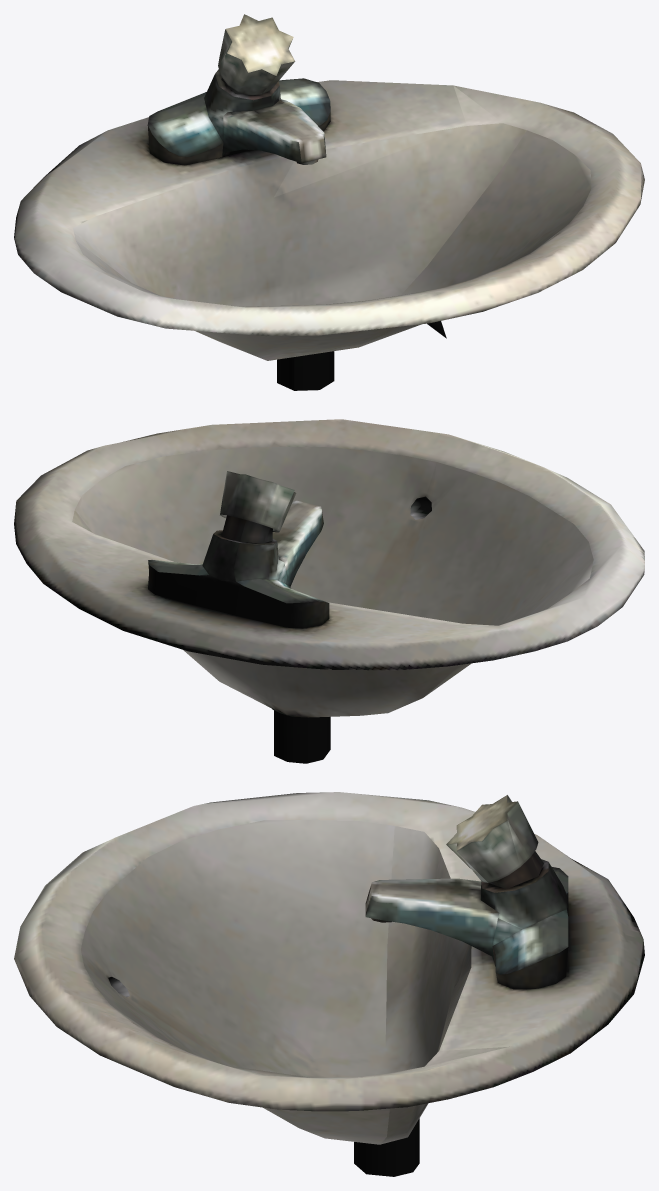
File: bathroom_sink.obj
3 renders of one model, top to bottom at view 1: azimuth 30°, elevation 25°; view 2: azimuth 150°, elevation 25°; view 3: azimuth 270°, elevation 25°, orthographic. The views are drawn at different scales.
Parts seen in each view (by area): view 1: Model001_4_bathroom sink_1_0_0; view 2: Model001_4_bathroom sink_1_0_0; view 3: Model001_4_bathroom sink_1_0_0.
Part boxes in pixels (x1,y1,x2,y2): Model001_4_bathroom sink_1_0_0: (14,14,644,390); Model001_4_bathroom sink_1_0_0: (14,419,644,763); Model001_4_bathroom sink_1_0_0: (14,792,644,1176).
Size of the model in its own units: 0.6173 by 0.3337 by 0.5288.
